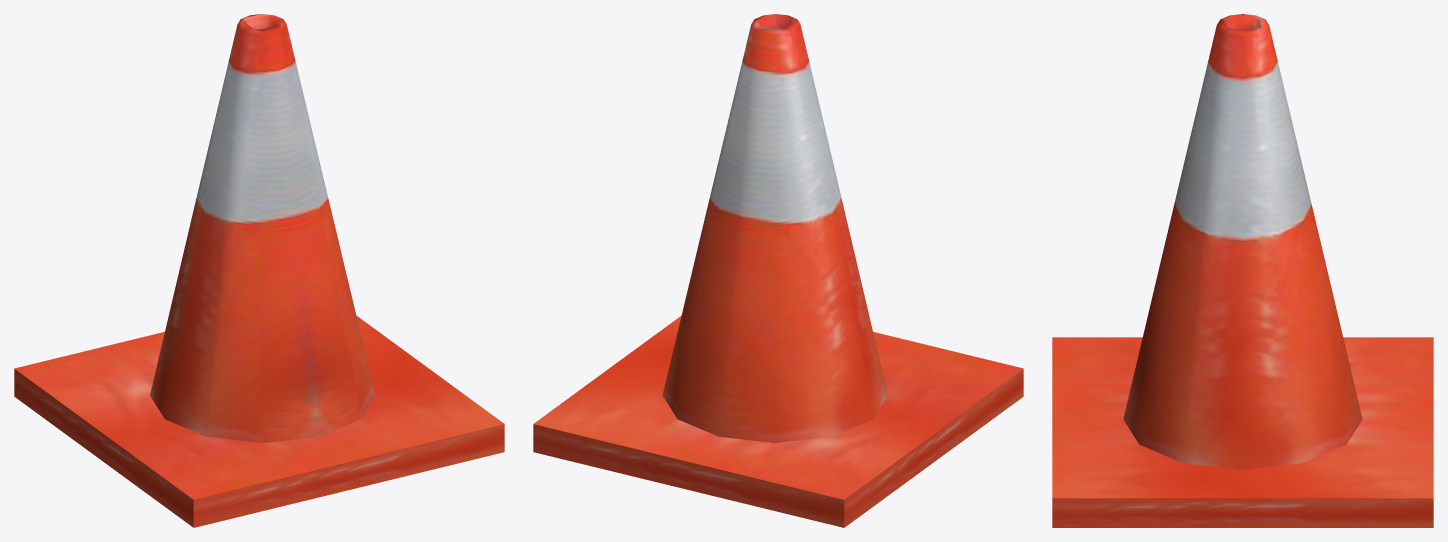
The model's file is orangepylonB_2.fbx.
3 views of the same model, side by side, from view 1: azimuth 30°, elevation 25°; view 2: azimuth 150°, elevation 25°; view 3: azimuth 270°, elevation 25° (orthographic). The views are drawn at different scales.
Visible parts, largest first — view 1: ChamferTube01, Box01; view 2: ChamferTube01, Box01; view 3: ChamferTube01, Box01.
Part boxes in pixels (<box>): ChamferTube01: <box>150,14,375,442</box>; Box01: <box>14,315,504,527</box>; ChamferTube01: <box>662,14,887,442</box>; Box01: <box>533,315,1023,527</box>; ChamferTube01: <box>1123,14,1362,469</box>; Box01: <box>1052,337,1433,527</box>.
Size of the model in its own units: 35.43 by 43.76 by 35.43.
